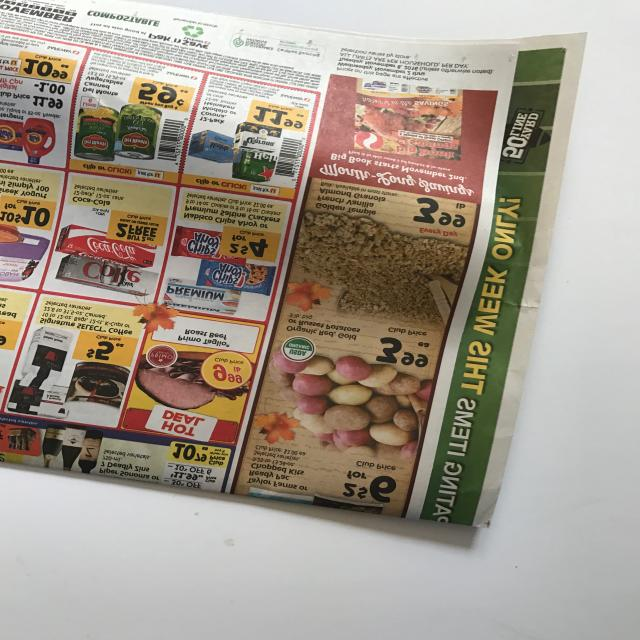paper: (0, 0, 604, 543)
